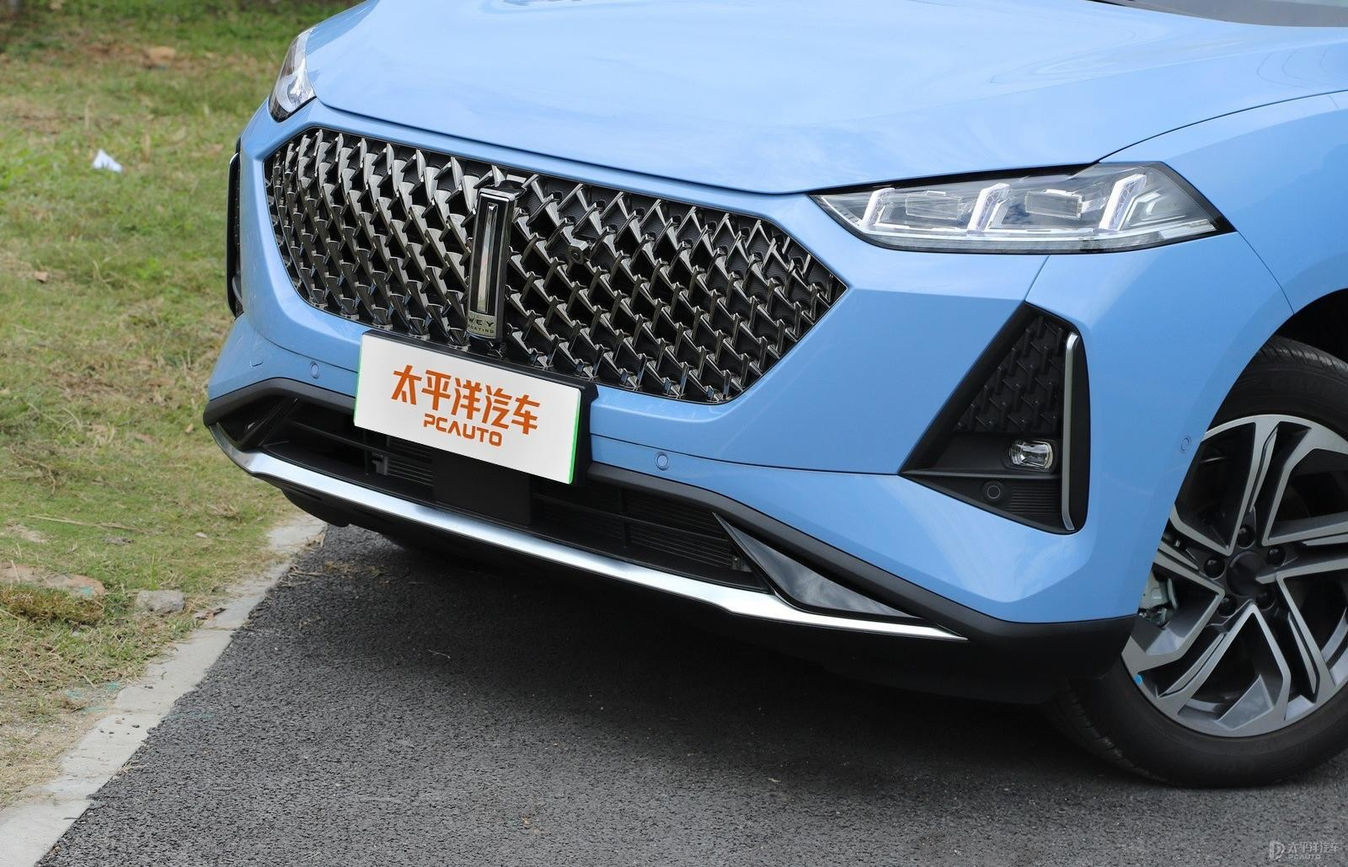WEY: (467, 189, 515, 340)
